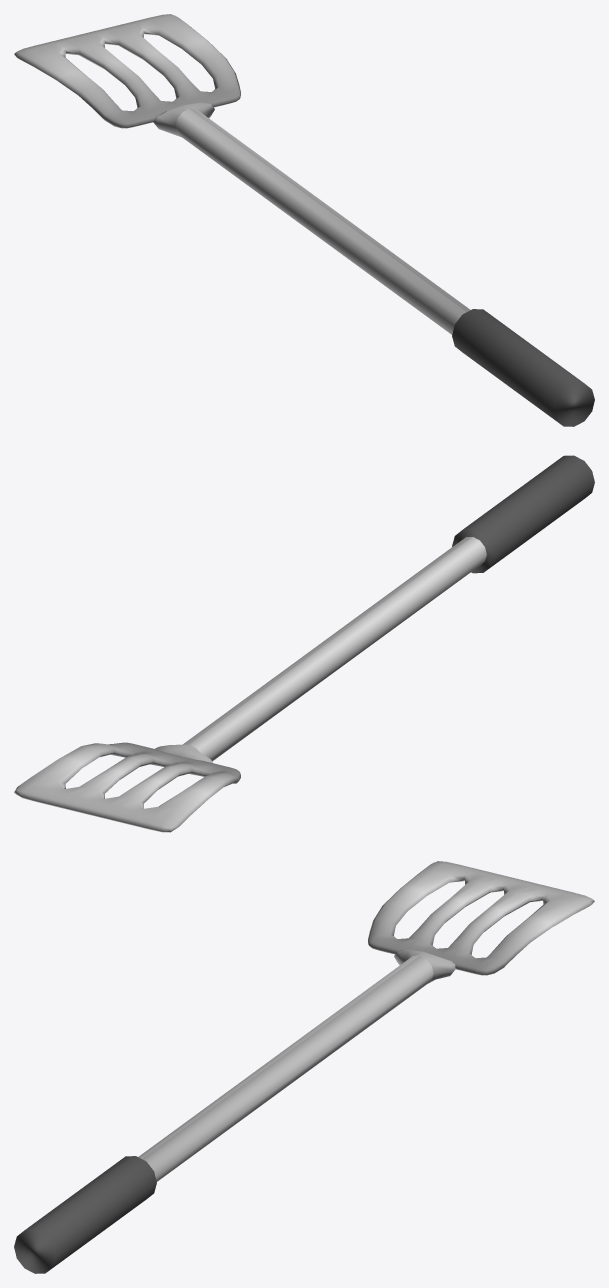
The model's file is spatula.fbx.
3 views of the same model, one above another, from view 1: azimuth 30°, elevation 25°; view 2: azimuth 150°, elevation 25°; view 3: azimuth 330°, elevation 25° (orthographic).
Parts seen in each view (by area): view 1: Cylinder; view 2: Cylinder; view 3: Cylinder.
Boxes of the visible parts, <box> form: Cylinder: <box>14,14,594,426</box>; Cylinder: <box>14,455,594,832</box>; Cylinder: <box>14,861,594,1273</box>.
Bounding box in the file's own units: 4.53 × 1.26 × 23.34.
Materials: 1 (1 with a texture image).
